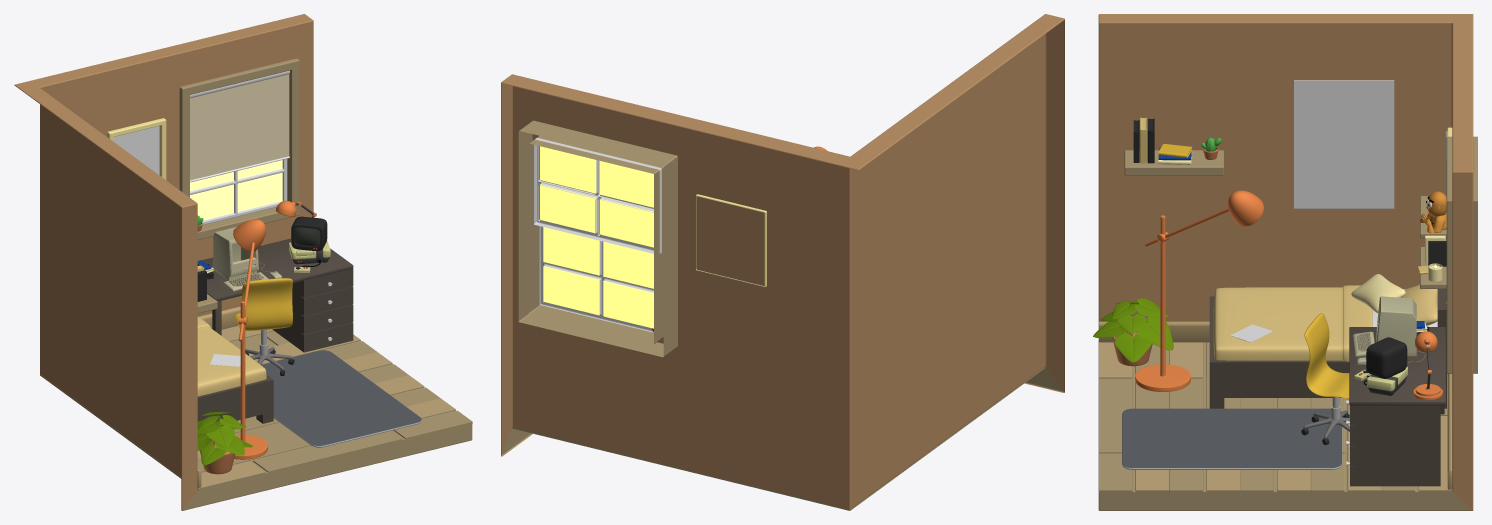
The model's file is scenewcreature.glb.
3 renders of one model, left to right at view 1: azimuth 30°, elevation 25°; view 2: azimuth 150°, elevation 25°; view 3: azimuth 270°, elevation 25°, orthographic. The views are drawn at different scales.
Visible parts, largest first — view 1: Walls, Floor, Rug, Blinds, Window Frame, Drawers, Lower Window, Sheets, Table Top, Seat, Bed Frame, Table Top.004 (+5 smaller); view 2: Walls, Window Frame, Upper Window, Lower Window, Floor, Table Top.004; view 3: Walls, Floor, Rug, Walls.001, Sheets, Drawers, Bed Frame, Table Top, Window Frame, Seat, Circle.001, Computer (+13 smaller).
Part boxes in pixels (left/top/right/bottom): Walls: left=14, top=14, right=472, bottom=510; Floor: left=40, top=325, right=472, bottom=491; Rug: left=261, top=350, right=421, bottom=447; Blinds: left=190, top=74, right=289, bottom=180; Window Frame: left=179, top=58, right=299, bottom=239; Drawers: left=272, top=268, right=353, bottom=352; Lower Window: left=190, top=159, right=287, bottom=224; Sheets: left=197, top=317, right=266, bottom=396; Table Top: left=202, top=238, right=353, bottom=301; Seat: left=234, top=278, right=292, bottom=330; Bed Frame: left=197, top=375, right=273, bottom=423; Table Top.004: left=107, top=118, right=166, bottom=179; Walls: left=501, top=14, right=1064, bottom=508; Window Frame: left=518, top=120, right=677, bottom=357; Upper Window: left=534, top=138, right=661, bottom=253; Lower Window: left=539, top=226, right=653, bottom=332; Floor: left=512, top=367, right=1044, bottom=510; Table Top.004: left=695, top=194, right=766, bottom=287; Walls: left=1098, top=14, right=1473, bottom=510; Floor: left=1098, top=341, right=1452, bottom=493; Rug: left=1122, top=408, right=1342, bottom=469; Walls.001: left=1294, top=80, right=1394, bottom=208; Sheets: left=1213, top=285, right=1372, bottom=361; Drawers: left=1350, top=405, right=1440, bottom=486; Bed Frame: left=1209, top=289, right=1446, bottom=408; Table Top: left=1349, top=327, right=1445, bottom=405; Window Frame: left=1446, top=136, right=1477, bottom=373; Seat: left=1304, top=313, right=1349, bottom=399; Circle.001: left=1135, top=215, right=1190, bottom=391; Computer: left=1376, top=296, right=1416, bottom=356.
Size of the model in its own units: 4 by 4 by 4.11.
